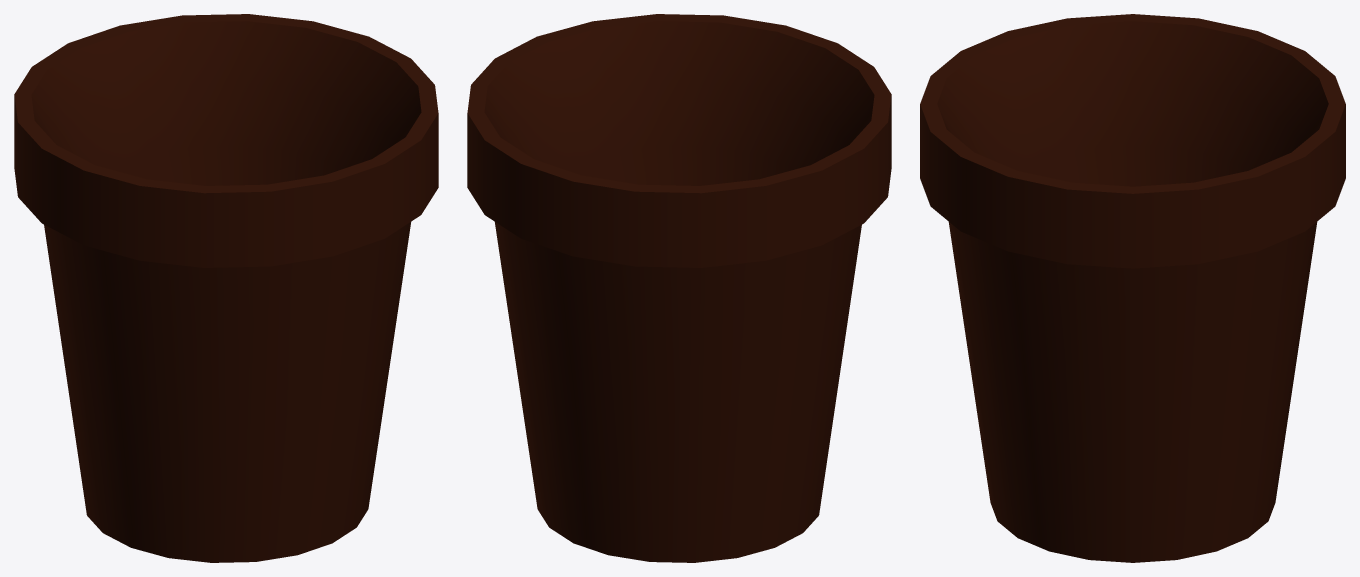
Rendered from meceta_1.fbx.
The picture shows the model from 3 angles, left to right: view 1: azimuth 30°, elevation 25°; view 2: azimuth 150°, elevation 25°; view 3: azimuth 270°, elevation 25°; orthographic projection.
Parts seen in each view (by area): view 1: Cylinder003; view 2: Cylinder003; view 3: Cylinder003.
Boxes of the visible parts, left/top/right/bottom form: Cylinder003: left=14, top=14, right=438, bottom=562; Cylinder003: left=467, top=14, right=891, bottom=562; Cylinder003: left=920, top=14, right=1345, bottom=562.
Size of the model in its own units: 17.86 by 18.46 by 17.86.
